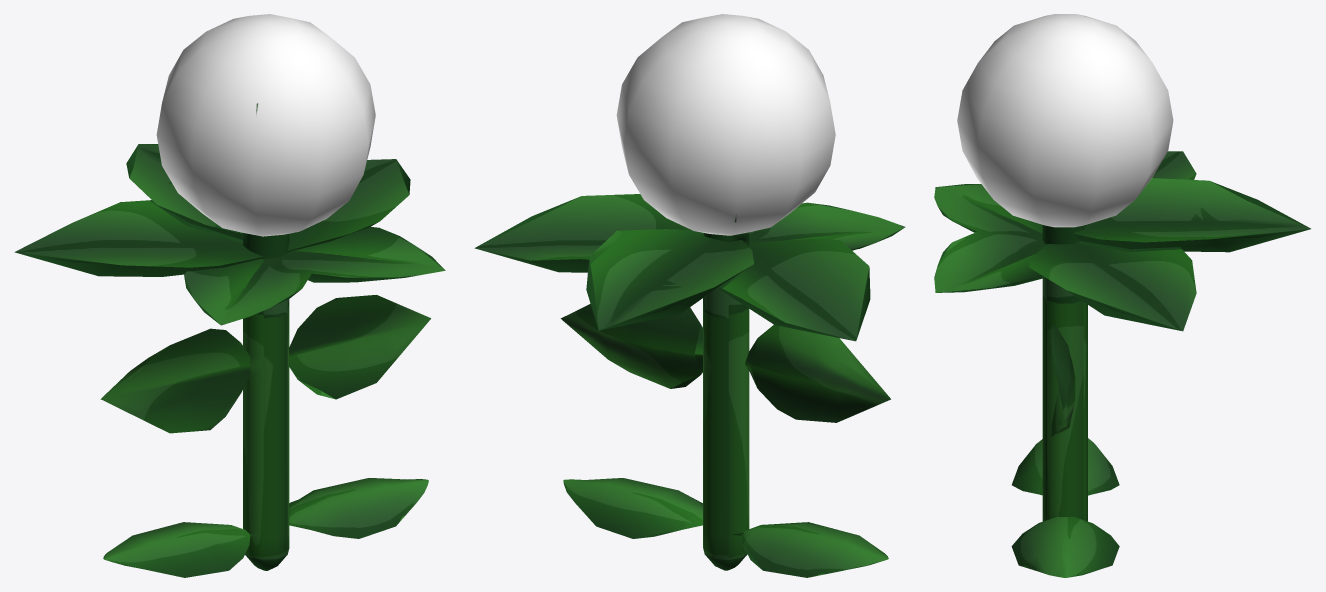
File: EyeStalker.fbx
3 renders of one model, left to right at view 1: azimuth 30°, elevation 25°; view 2: azimuth 150°, elevation 25°; view 3: azimuth 270°, elevation 25°, orthographic. The views are drawn at different scales.
Visible parts, largest first — view 1: pSphere9; view 2: pSphere9; view 3: pSphere9.
Boxes of the visible parts, x1,y1,x2,y2 form: pSphere9: (14,14,445,577); pSphere9: (474,14,905,577); pSphere9: (934,14,1310,577).
Size of the model in its own units: 1.11 by 1.52 by 0.9864.
